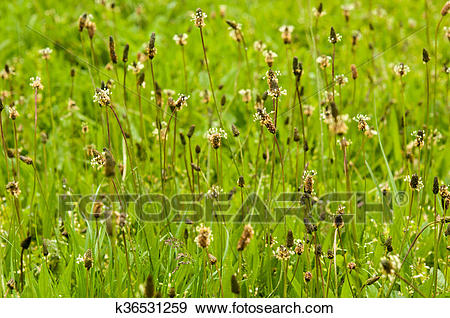buckhorn plantain: (3, 12, 444, 286)
